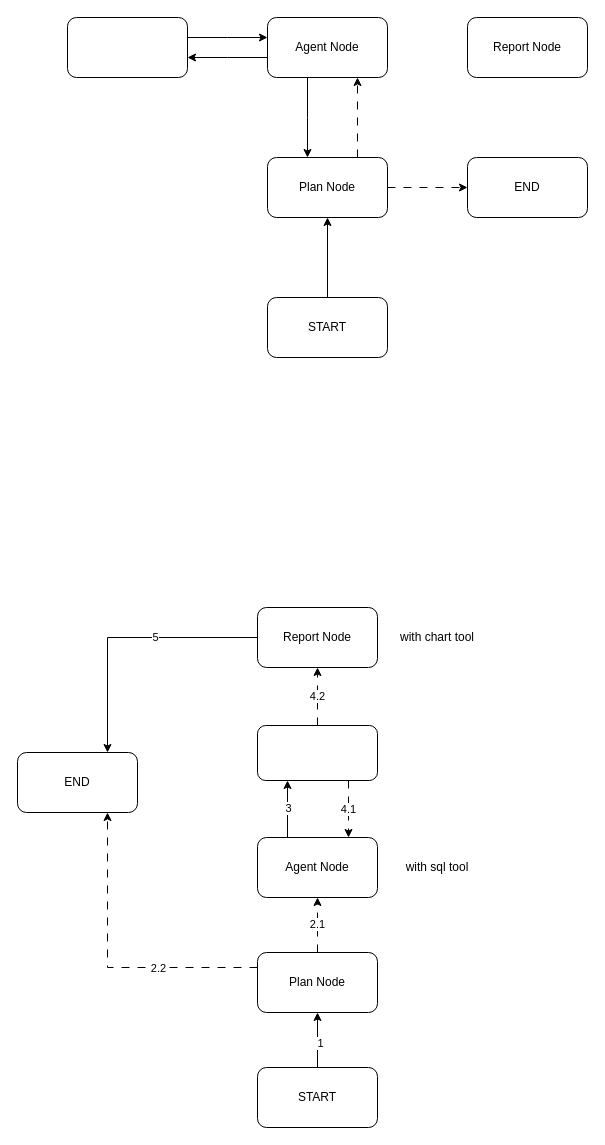
Some shapes in this 605 by 1145 pixel diagram are drawn without their labels. The shapes that lost their labels are listed below. From the top down, each one's centre as x and y in pixels, then its label:
the point at 127,47: Tool Node
the point at 317,752: Replan Node
